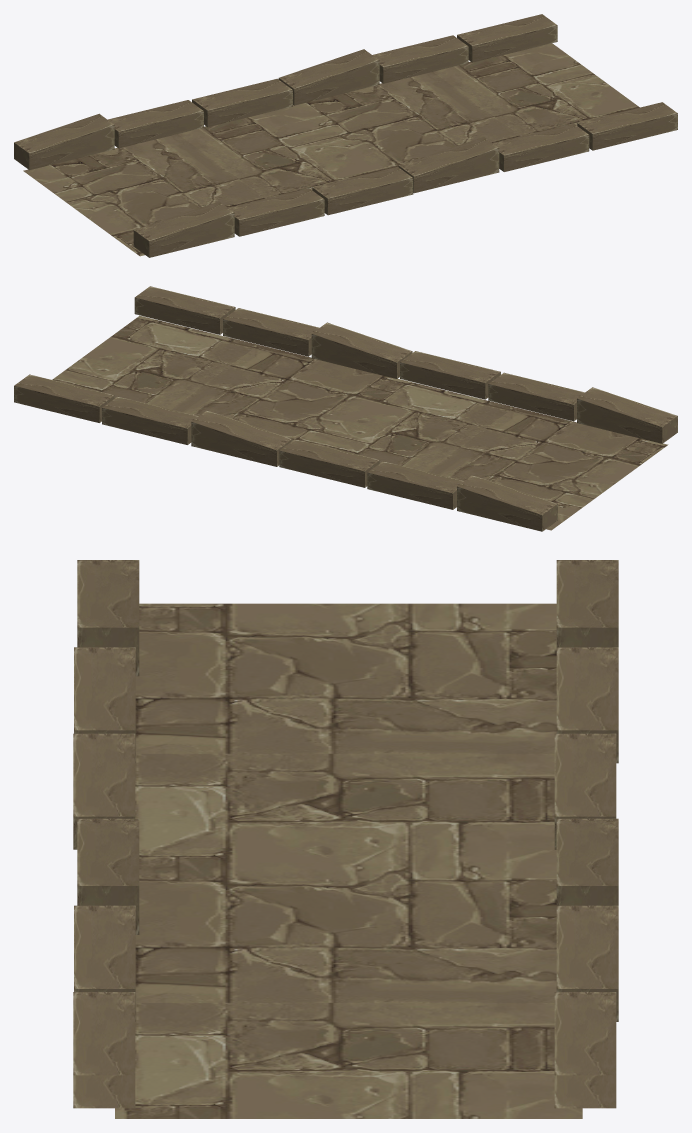
The model's file is bfcs_daolu_04.FBX.
3 views of the same model, one above another, from view 1: azimuth 30°, elevation 25°; view 2: azimuth 150°, elevation 25°; view 3: azimuth 270°, elevation 25° (orthographic). The views are drawn at different scales.
Parts seen in each view (by area): view 1: bfcs_daolu_04; view 2: bfcs_daolu_04; view 3: bfcs_daolu_04.
Boxes of the visible parts, left/top/right/bottom form: bfcs_daolu_04: left=14, top=14, right=677, bottom=257; bfcs_daolu_04: left=14, top=286, right=677, bottom=531; bfcs_daolu_04: left=73, top=560, right=618, bottom=1118.
Size of the model in its own units: 311 by 16.72 by 139.
